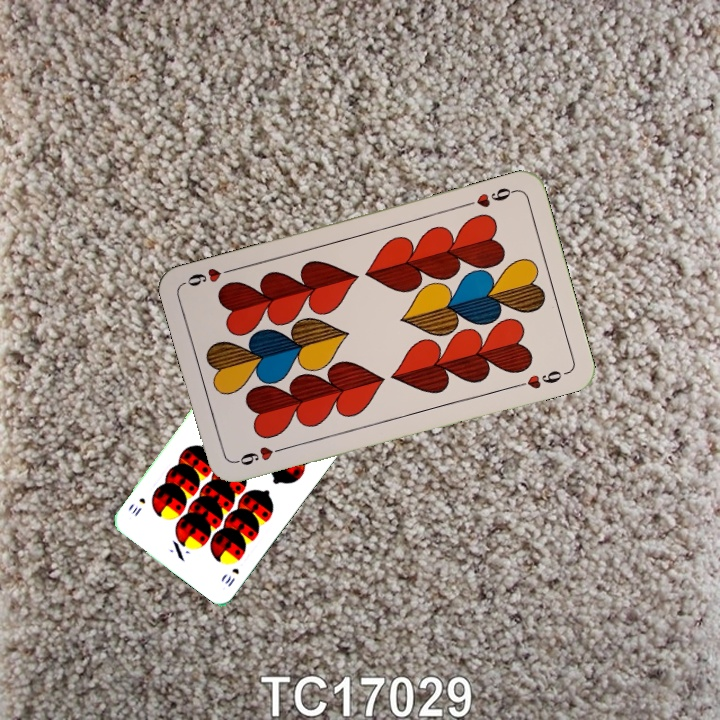H9: (461, 183, 519, 210), (232, 442, 290, 468)
S10: (221, 564, 242, 590)
